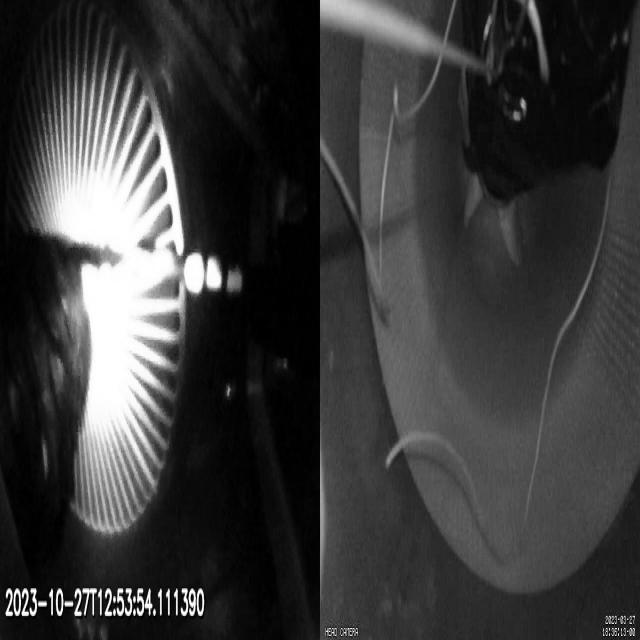white-dots: (184, 252, 242, 295)
